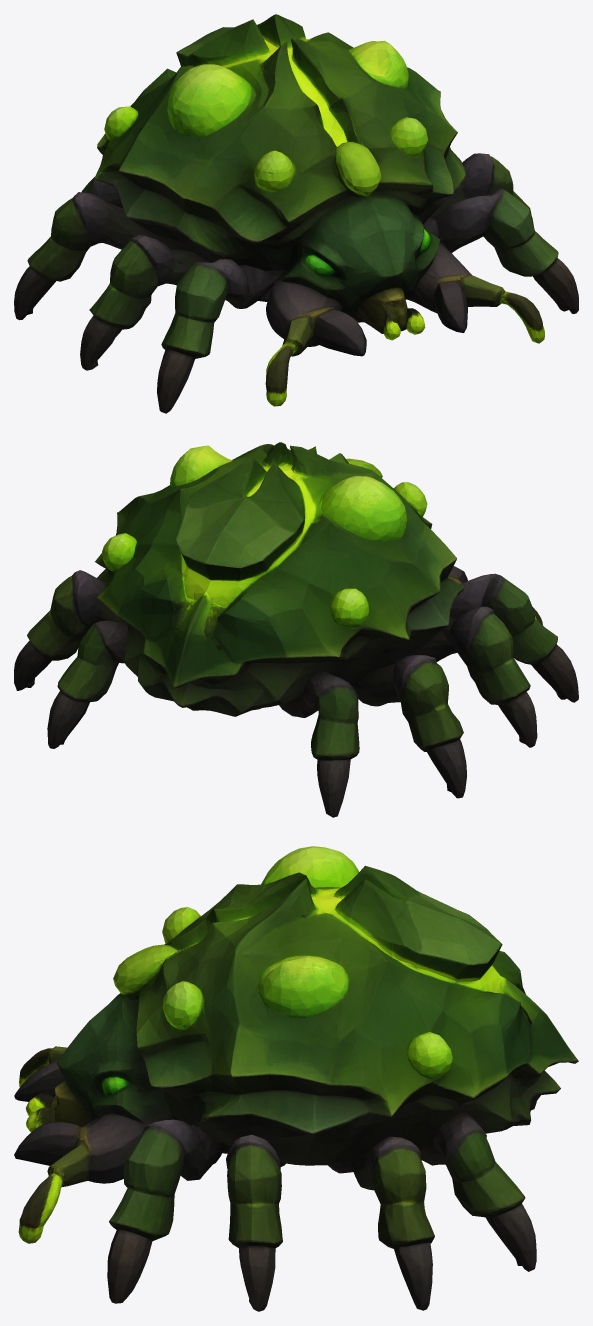
The model's file is trellis-1.glb.
3 renders of one model, top to bottom at view 1: azimuth 30°, elevation 25°; view 2: azimuth 150°, elevation 25°; view 3: azimuth 270°, elevation 25°, orthographic. The views are drawn at different scales.
Parts seen in each view (by area): view 1: world; view 2: world; view 3: world.
Part boxes in pixels (x1,y1,x2,y2): world: [14, 14, 578, 413]; world: [14, 442, 578, 817]; world: [14, 846, 578, 1311].
Bounding box in the file's own units: 0.9964 × 0.573 × 0.92.
Materials: 1 (1 with a texture image).
